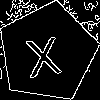X: (22, 27, 63, 78)
